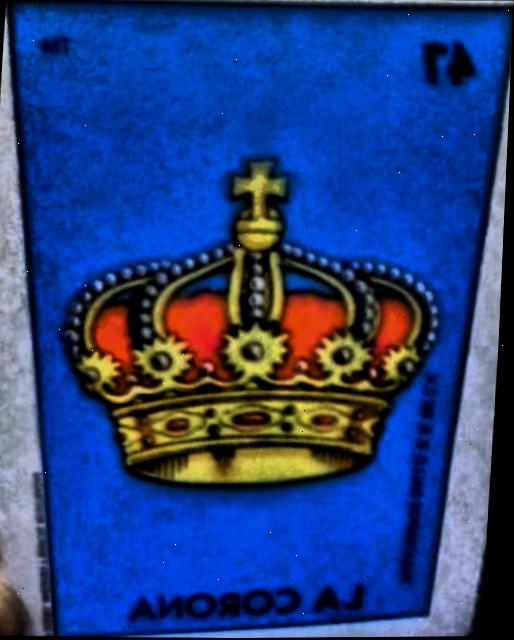La Corona: (11, 1, 514, 625)
